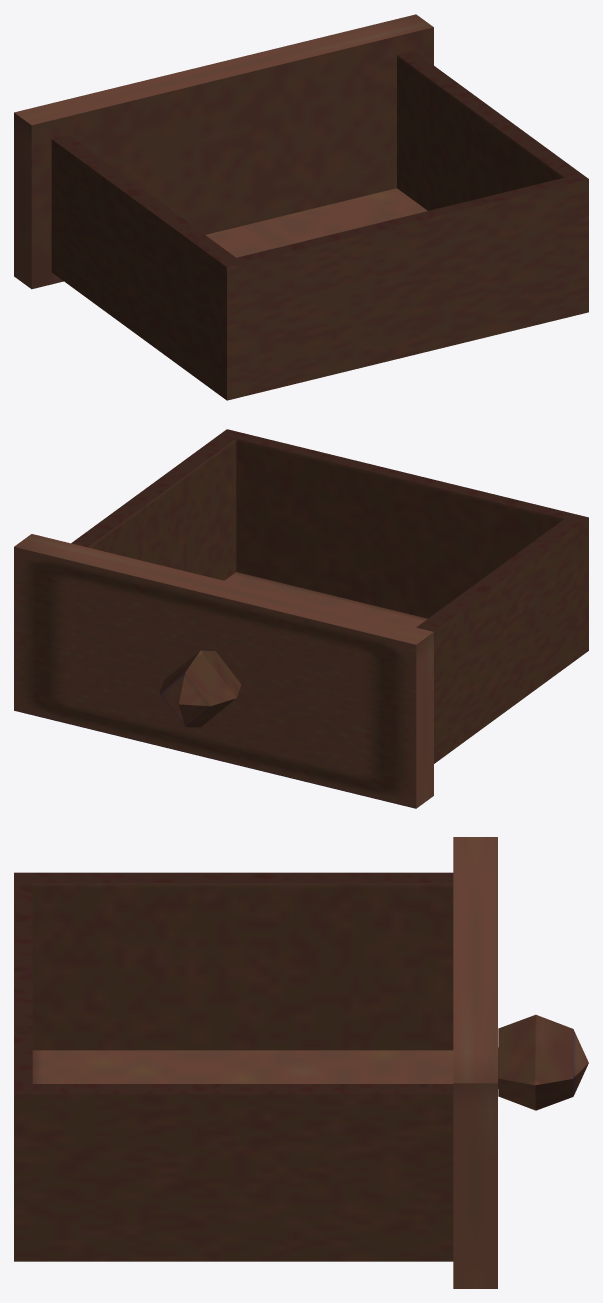
File: small_dual_cabinet_sliding_door.fbx
3 renders of one model, top to bottom at view 1: azimuth 30°, elevation 25°; view 2: azimuth 150°, elevation 25°; view 3: azimuth 270°, elevation 25°, orthographic. The views are drawn at different scales.
Parts seen in each view (by area): view 1: Sliding Cabinet Door; view 2: Sliding Cabinet Door; view 3: Sliding Cabinet Door.
Part boxes in pixels (box(x1,y1,x2,y2)): Sliding Cabinet Door: box(14, 14, 588, 400); Sliding Cabinet Door: box(14, 429, 588, 808); Sliding Cabinet Door: box(14, 837, 588, 1288).
Bounding box in the file's own units: 0.8943 × 0.8828 × 0.3483.
2 materials, 2 textured.
